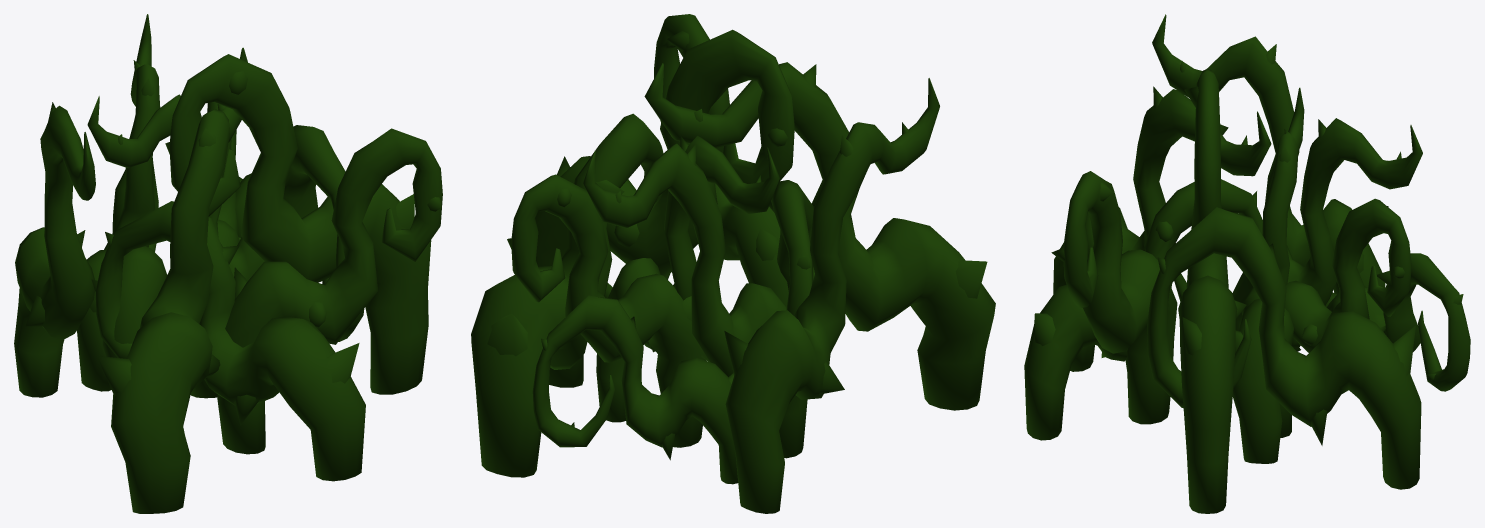
Rendered from Thorns.fbx.
3 renders of one model, left to right at view 1: azimuth 30°, elevation 25°; view 2: azimuth 150°, elevation 25°; view 3: azimuth 270°, elevation 25°, orthographic. The views are drawn at different scales.
Parts seen in each view (by area): view 1: group4_pasted__polySurface1; view 2: group4_pasted__polySurface1; view 3: group4_pasted__polySurface1.
Part boxes in pixels (x1,y1,x2,y2): group4_pasted__polySurface1: (14, 14, 442, 513); group4_pasted__polySurface1: (471, 14, 995, 513); group4_pasted__polySurface1: (1024, 14, 1470, 513).
Bounding box in the file's own units: 20.31 × 18.73 × 21.16.
